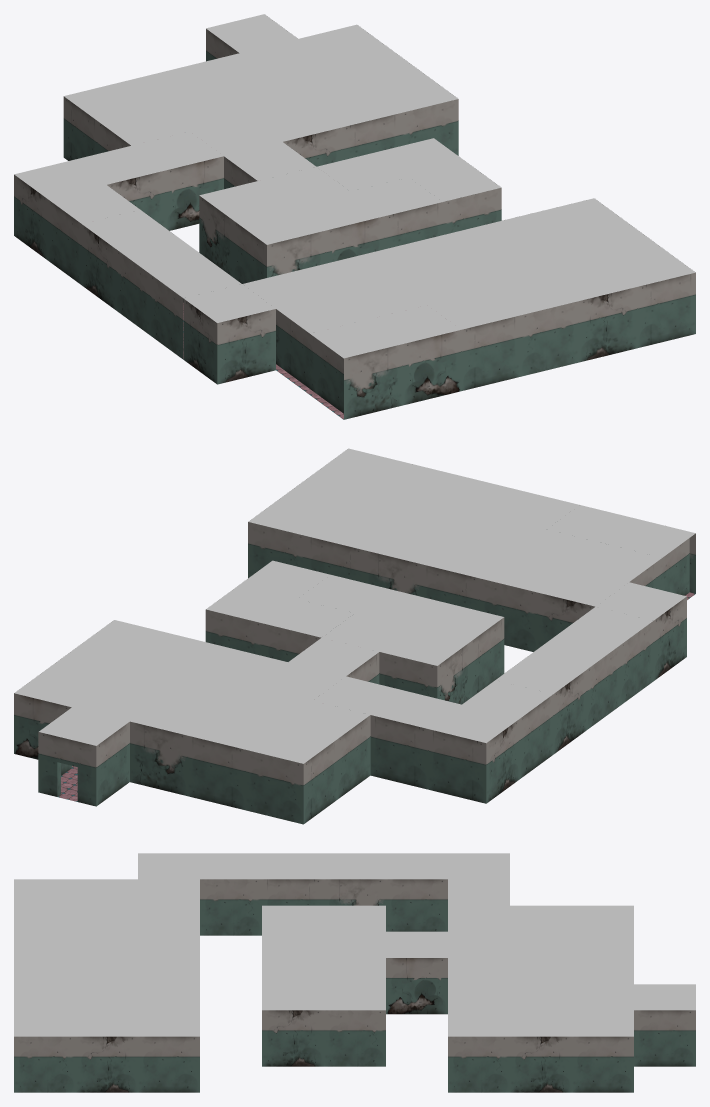
The model's file is ofic1.fbx.
The picture shows the model from 3 angles, top to bottom: view 1: azimuth 30°, elevation 25°; view 2: azimuth 150°, elevation 25°; view 3: azimuth 270°, elevation 25°; orthographic projection. The views are drawn at different scales.
Visible parts, largest first — view 1: пол.002, пол.081, пол.078, пол.074, пол.080, пол.077, пол.082, пол.079, пол.029, пол.026, пол.069, пол.073 (+16 smaller); view 2: пол.002, пол.031, пол.068, пол.055, пол.030, пол.032, Plane.001, пол.062, пол.066, пол.071, пол.034, пол.073 (+18 smaller); view 3: пол.002, пол.020, пол.021, пол.022, пол.023, пол.024, пол.025, пол.043, пол.061, пол.083, пол.084, пол.085 (+3 smaller).
Boxes of the visible parts, x1=… form: пол.002: x1=14, y1=14, x2=695, y2=358; пол.081: x1=578, y1=287, x2=637, y2=362; пол.078: x1=402, y1=330, x2=461, y2=405; пол.074: x1=217, y1=309, x2=275, y2=384; пол.080: x1=520, y1=301, x2=578, y2=376; пол.077: x1=344, y1=344, x2=402, y2=419; пол.082: x1=637, y1=272, x2=695, y2=348; пол.079: x1=461, y1=315, x2=519, y2=390; пол.029: x1=165, y1=156, x2=223, y2=230; пол.026: x1=400, y1=99, x2=458, y2=155; пол.069: x1=115, y1=249, x2=149, y2=334; пол.073: x1=149, y1=274, x2=183, y2=359; пол.002: x1=14, y1=448, x2=695, y2=763; пол.031: x1=187, y1=736, x2=245, y2=810; пол.068: x1=428, y1=729, x2=486, y2=803; пол.055: x1=370, y1=715, x2=428, y2=789; пол.030: x1=245, y1=750, x2=303, y2=824; пол.032: x1=130, y1=721, x2=187, y2=795; Plane.001: x1=38, y1=732, x2=96, y2=806; пол.062: x1=479, y1=578, x2=537, y2=651; пол.066: x1=248, y1=522, x2=305, y2=577; пол.071: x1=519, y1=694, x2=553, y2=778; пол.034: x1=14, y1=693, x2=71, y2=759; пол.073: x1=620, y1=621, x2=653, y2=705; пол.002: x1=14, y1=853, x2=695, y2=1036; пол.020: x1=262, y1=1010, x2=323, y2=1066; пол.021: x1=324, y1=1010, x2=385, y2=1066; пол.022: x1=448, y1=1036, x2=509, y2=1092; пол.023: x1=510, y1=1036, x2=571, y2=1092; пол.024: x1=572, y1=1036, x2=633, y2=1092; пол.025: x1=386, y1=958, x2=447, y2=1014; пол.043: x1=634, y1=1010, x2=695, y2=1066; пол.061: x1=200, y1=879, x2=261, y2=935; пол.083: x1=14, y1=1036, x2=75, y2=1092; пол.084: x1=76, y1=1036, x2=137, y2=1092; пол.085: x1=138, y1=1036, x2=199, y2=1092.
Size of the model in its own units: 2802 by 400 by 4403.
